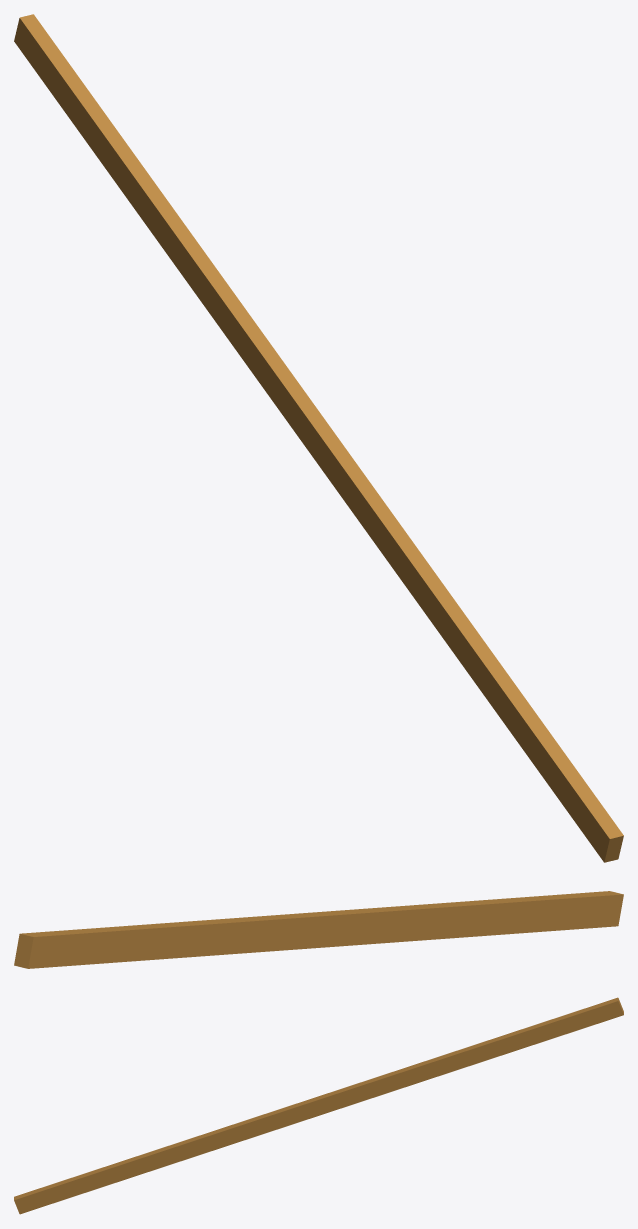
The picture shows the model from 3 angles, top to bottom: view 1: azimuth 30°, elevation 25°; view 2: azimuth 150°, elevation 25°; view 3: azimuth 270°, elevation 25°; orthographic projection. The views are drawn at different scales.
Parts seen in each view (by area): view 1: L1-3-S18-32F-P1-M01; view 2: L1-3-S18-32F-P1-M01; view 3: L1-3-S18-32F-P1-M01.
Part boxes in pixels (left/top/right/bottom): L1-3-S18-32F-P1-M01: left=14, top=14, right=623, bottom=862; L1-3-S18-32F-P1-M01: left=14, top=891, right=623, bottom=968; L1-3-S18-32F-P1-M01: left=14, top=997, right=623, bottom=1214.
Bounding box in the file's own units: 0.045 × 1.27 × 3.29.
